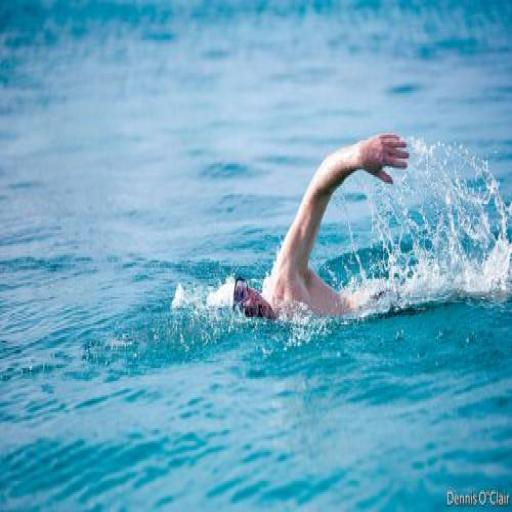swimming: (230, 129, 410, 328)
